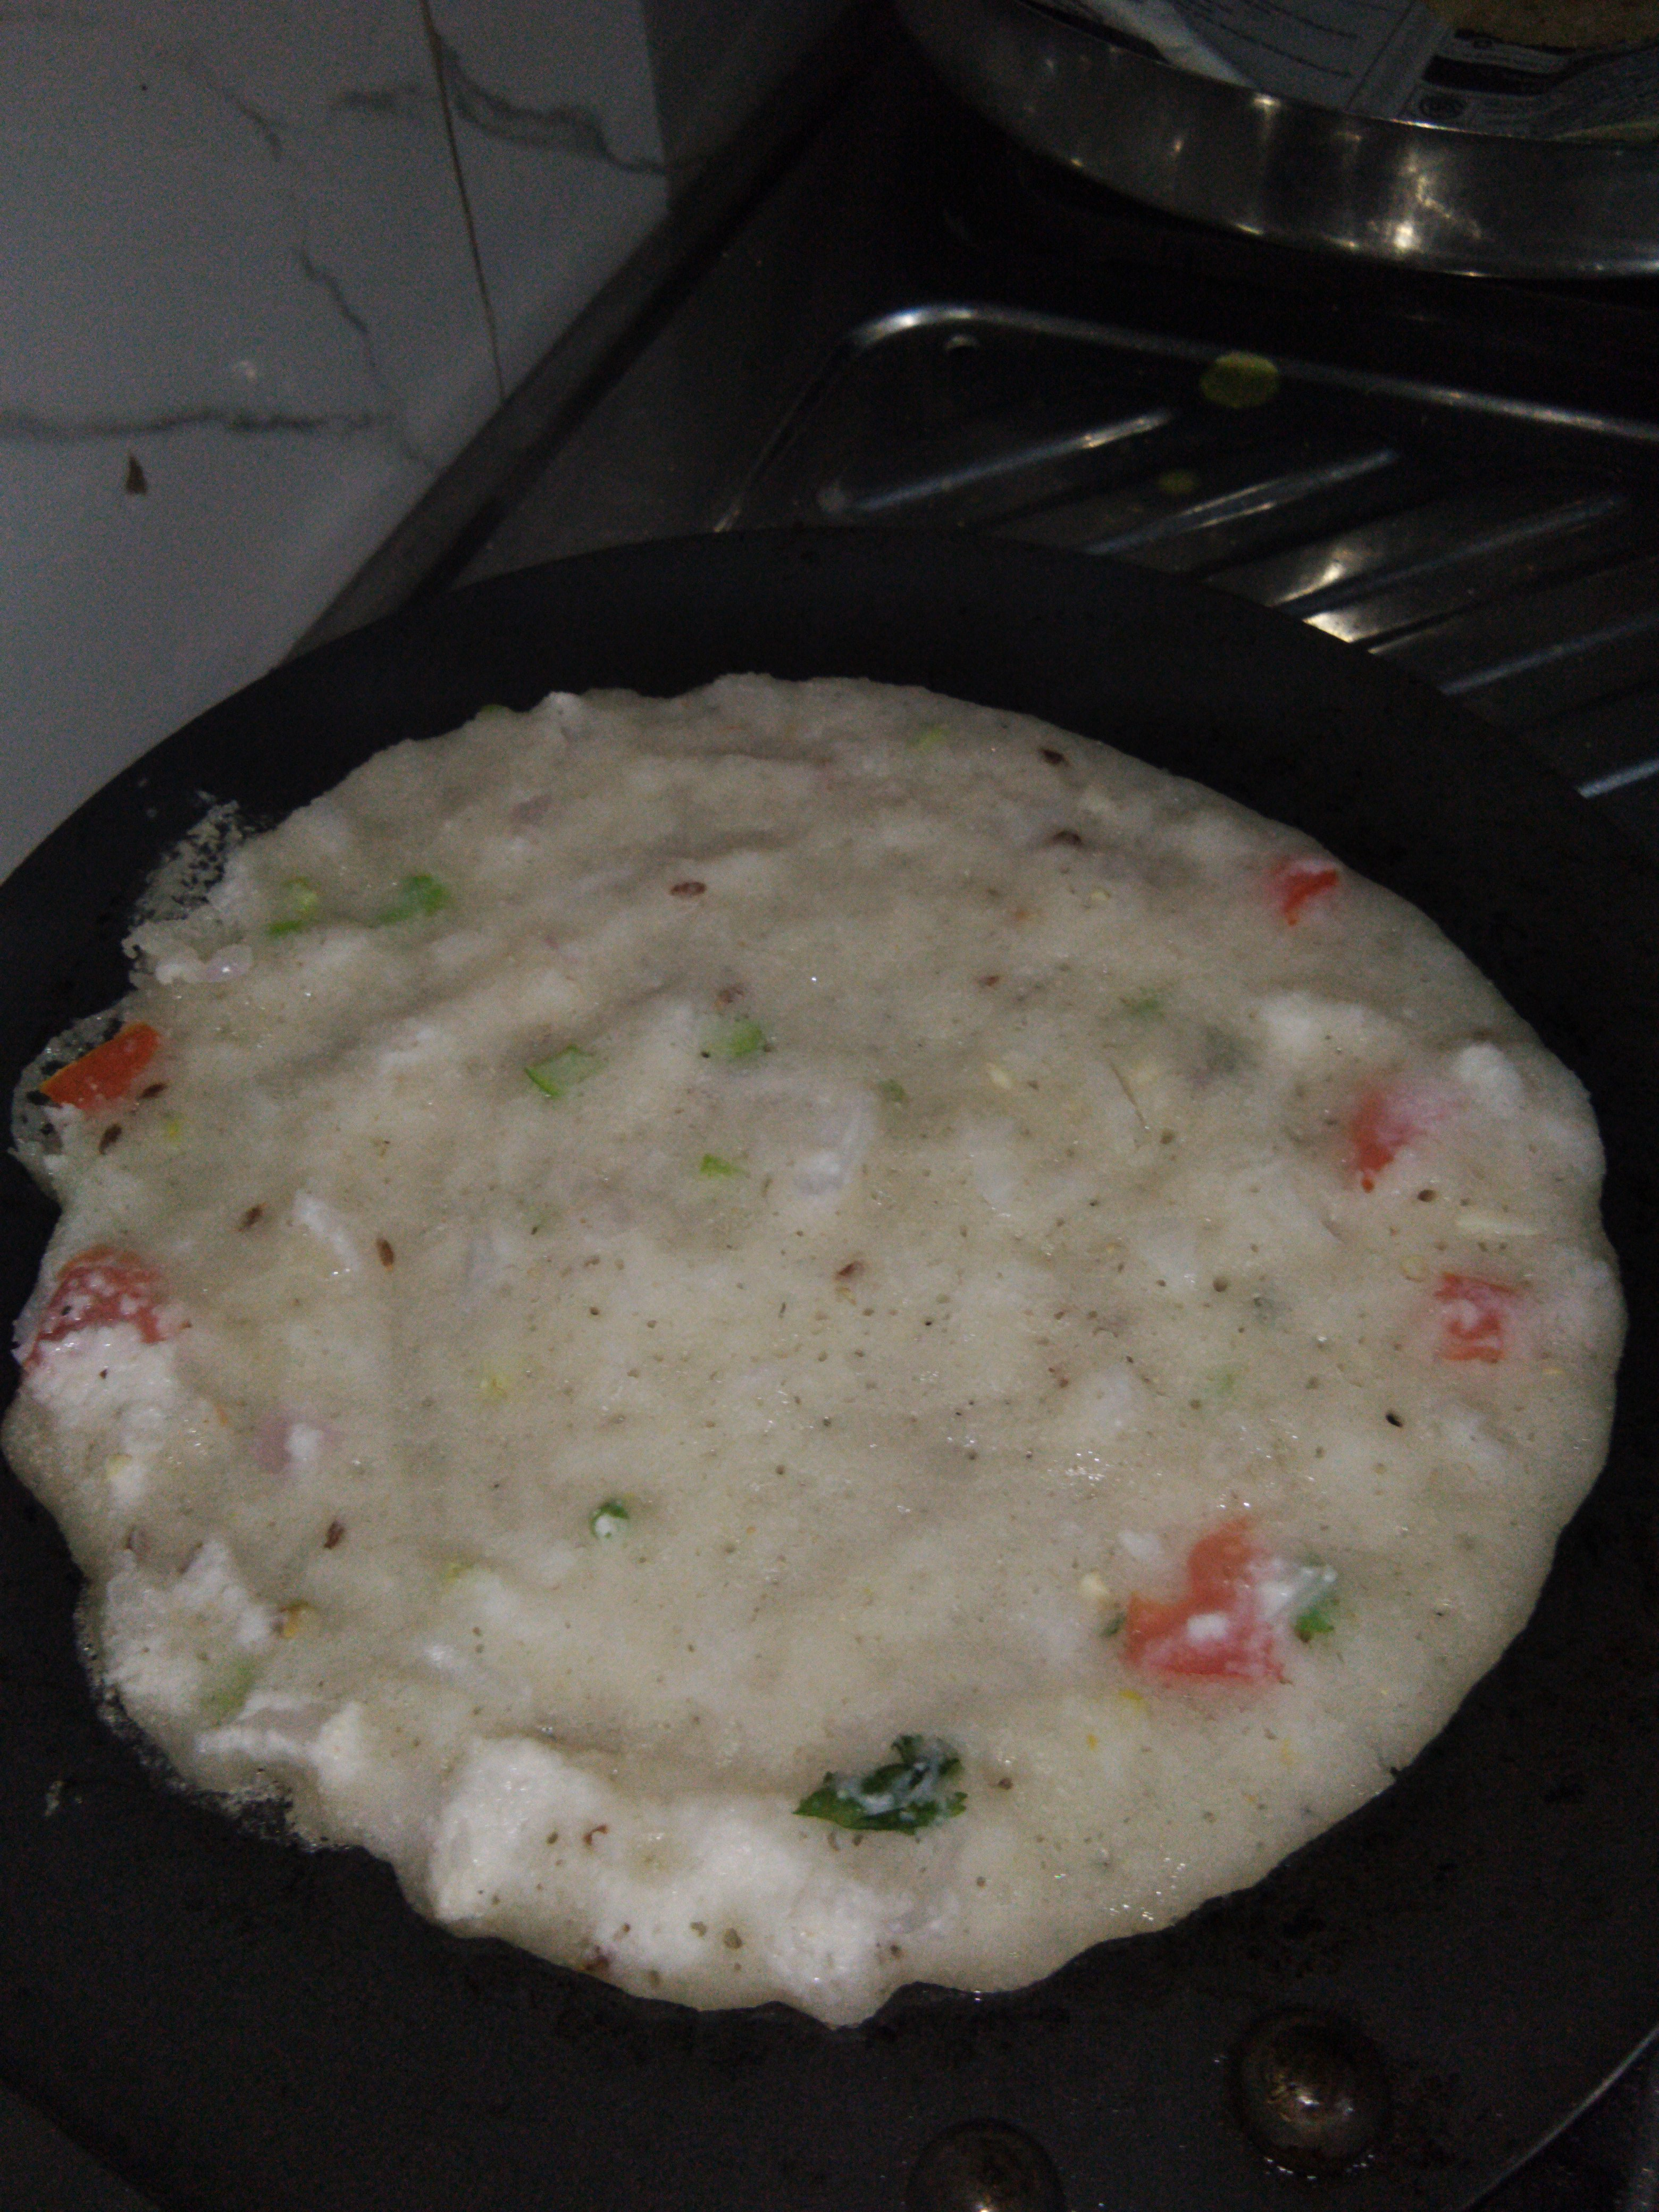food: (0, 651, 1638, 2034)
